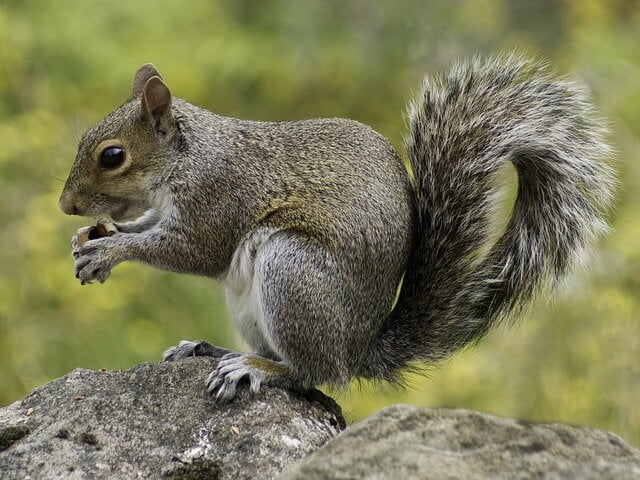Ardilla: (42, 59, 631, 411)
